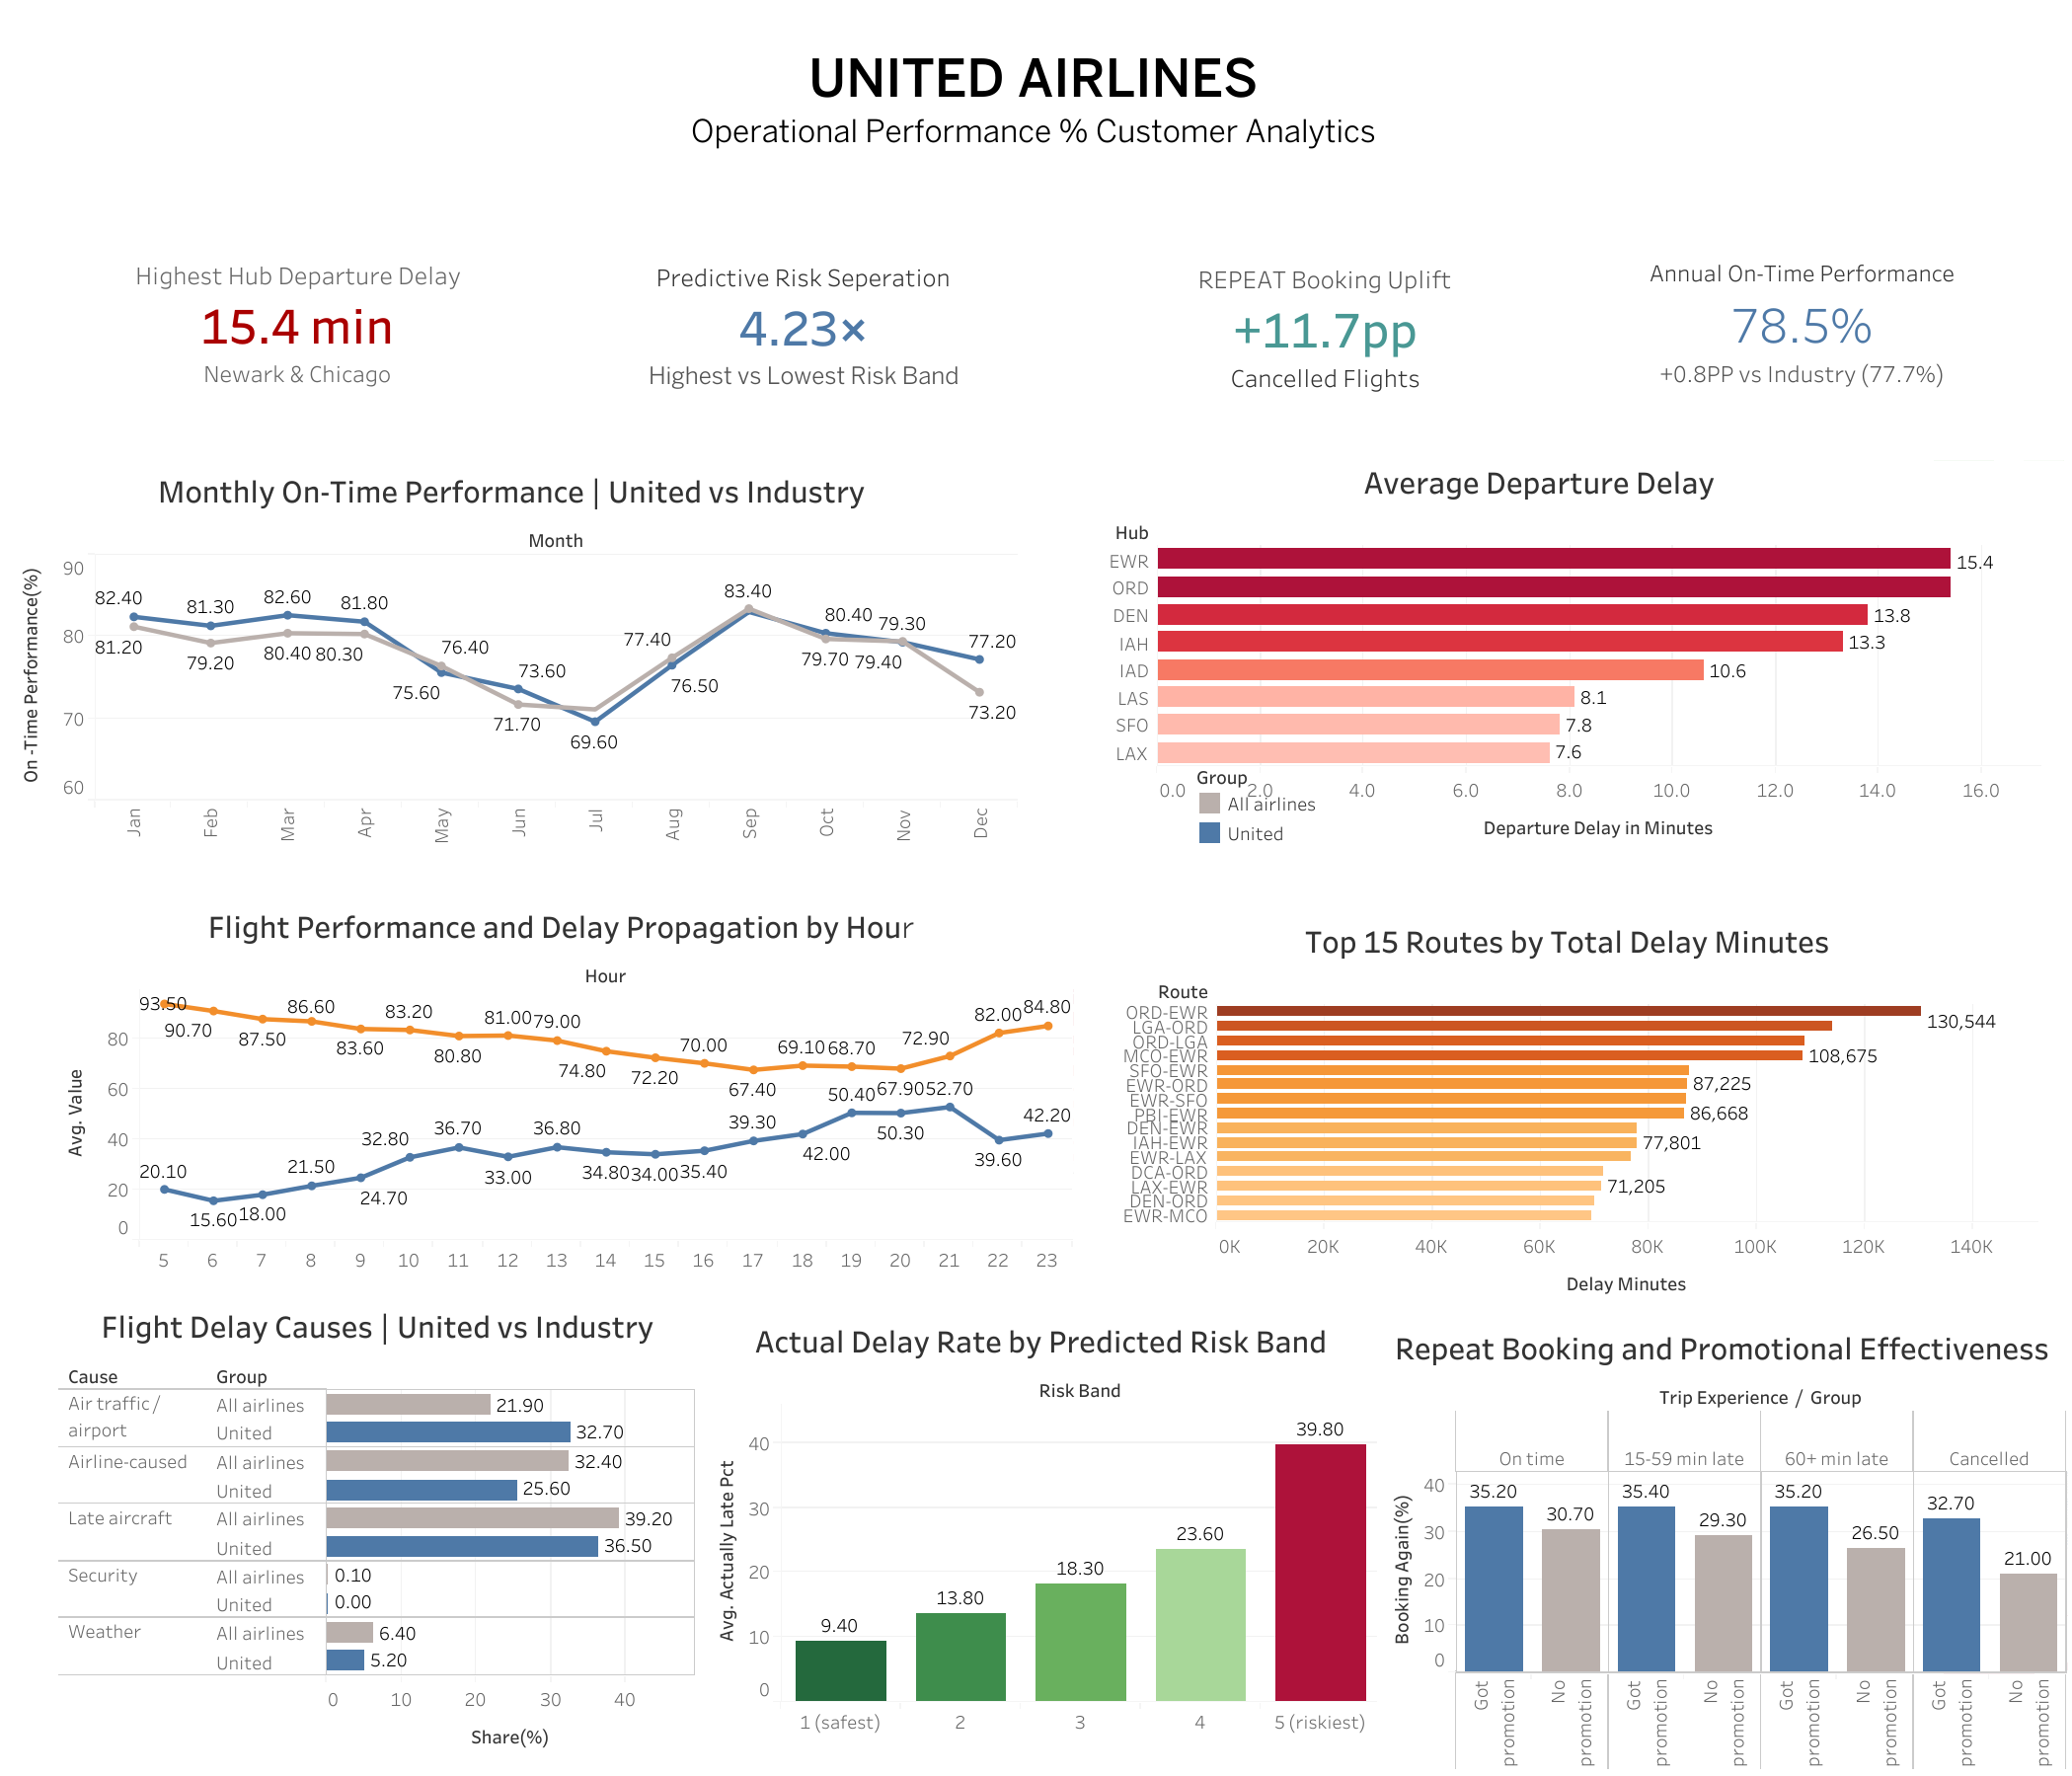

What the dashboard file says about the page in this screenshot:
{"tool":"tableau","page":{"name":"Dashboard 2","canvas":[1400,1200],"ordinal":0},"visuals":[{"type":"text","box":[10,10,1376,112]},{"type":"worksheet","title":"KPI Annual OTP","mark":"Automatic","box":[1042,111,351,199]},{"type":"worksheet","title":"KPI_Loyalty_Uplift","mark":"Automatic","box":[700,124,391,180]},{"type":"worksheet","title":"KPI_Hub Delay","mark":"Automatic","box":[27,135,348,152]},{"type":"worksheet","title":"KPI_Risk_Seperation","mark":"Automatic","box":[374,135,338,154]},{"type":"worksheet","title":"Hub Performance","mark":"Automatic","rows":["hub"],"cols":["avg_departure_delay_min"],"box":[701,305,677,269]},{"type":"worksheet","title":"Monthly Performance","mark":"Line","rows":["on_time_pct"],"cols":["month"],"box":[4,311,683,269]},{"type":"legend","title":"Delay Causes","param":"[federated.0q80iq1197nxfp16xktrk0isrqkb].[none:group:nk]","box":[807,513,140,89]},{"type":"worksheet","title":"Hourly Performance","mark":"Line","rows":["value"],"cols":["hour"],"box":[34,605,690,254]},{"type":"worksheet","title":"Route Performance","mark":"Bar","rows":["route"],"cols":["delay_minutes"],"box":[741,615,635,267]},{"type":"worksheet","title":"Delay Causes","mark":"Bar","rows":["cause","group"],"cols":["share_pct"],"box":[40,875,430,314]},{"type":"worksheet","title":"Model Risk Bands","mark":"Bar","rows":["actually_late_pct"],"cols":["risk_band"],"box":[474,885,458,304]},{"type":"worksheet","title":"Customer Loyalty","mark":"Bar","rows":["booked_again_pct"],"cols":["trip_experience","group"],"box":[930,890,466,306]}]}

Visuals, with their boxes in screenshot pixels (x1, y1, x2, y2), scaled from the page's 1400x1200 canvas onto the 2072x1776 screenshot:
text: rect(15, 15, 2051, 181)
"KPI Annual OTP" worksheet: rect(1542, 164, 2062, 459)
"KPI_Loyalty_Uplift" worksheet: rect(1036, 184, 1615, 450)
"KPI_Hub Delay" worksheet: rect(39, 199, 555, 425)
"KPI_Risk_Seperation" worksheet: rect(554, 199, 1053, 427)
"Hub Performance" worksheet: rect(1037, 451, 2039, 850)
"Monthly Performance" worksheet (Line marks): rect(6, 460, 1017, 859)
"Delay Causes" legend: rect(1194, 759, 1402, 890)
"Hourly Performance" worksheet (Line marks): rect(50, 895, 1071, 1272)
"Route Performance" worksheet (Bar marks): rect(1097, 910, 2036, 1305)
"Delay Causes" worksheet (Bar marks): rect(59, 1295, 696, 1760)
"Model Risk Bands" worksheet (Bar marks): rect(702, 1310, 1379, 1760)
"Customer Loyalty" worksheet (Bar marks): rect(1376, 1317, 2066, 1770)
